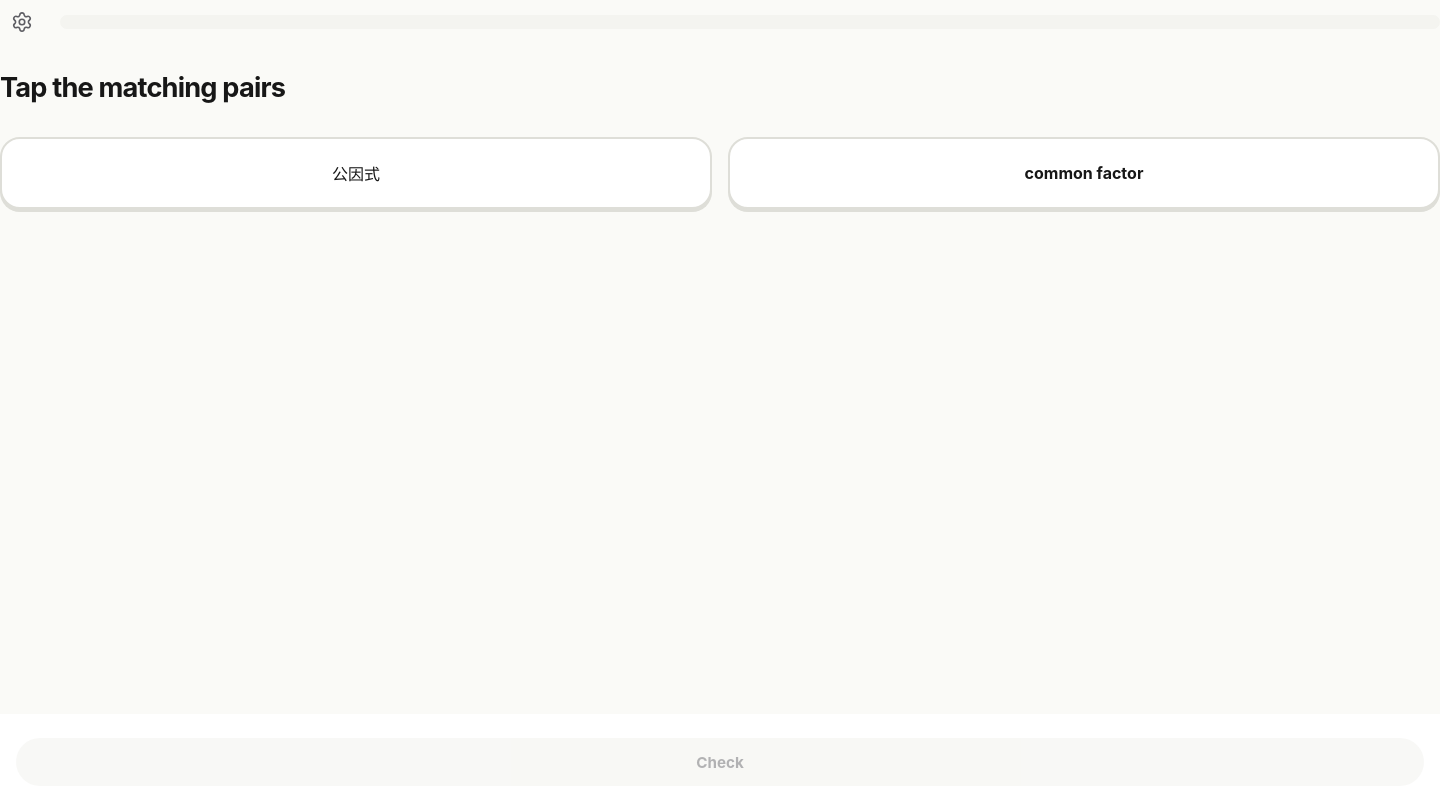
Scenario: progress fills when matchKey equals termId
What coordinates should you click on to do the following:
click the button "公因式"
I would click on:
 (356, 173)
Its box is [0, 137, 712, 209].
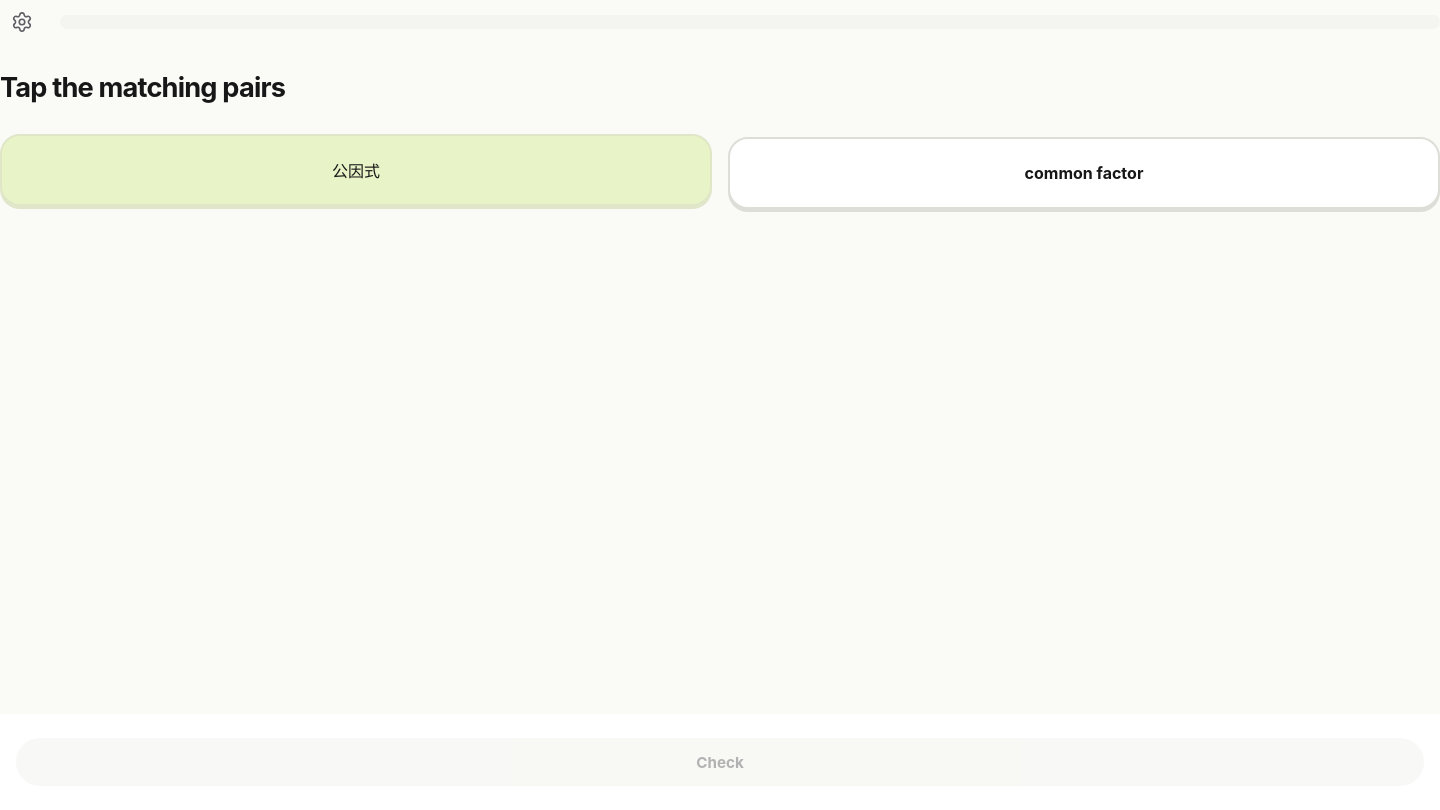
What coordinates should you click on to do the following:
click the button "common factor"
I would click on:
 (1084, 173)
Its box is [728, 137, 1439, 209].
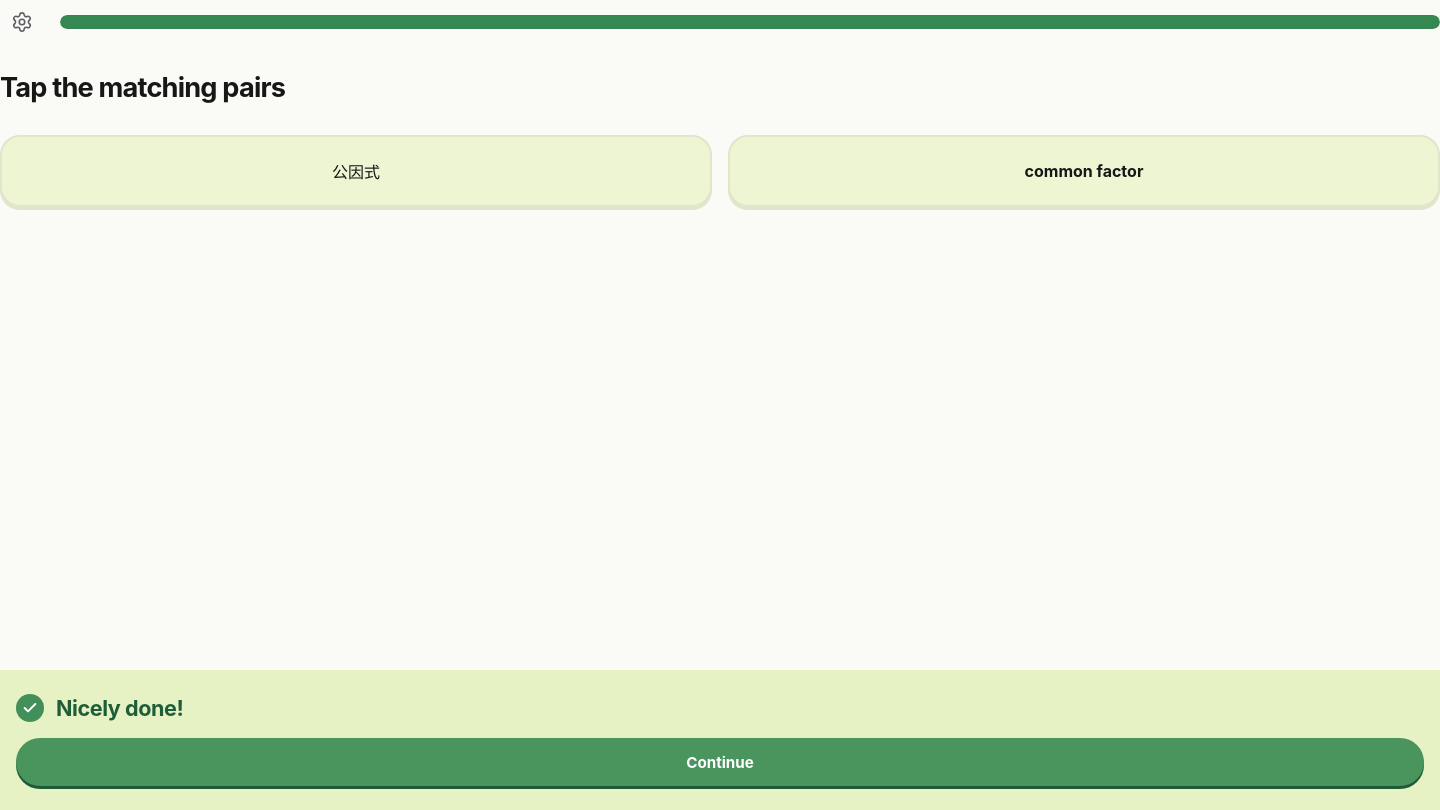
Result: the button "Continue" is enabled at [16, 738, 1424, 786]
